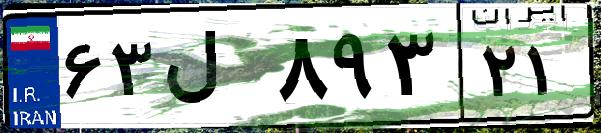1: (525, 38, 570, 115)
2: (475, 38, 525, 113)
3: (385, 28, 445, 110), (110, 28, 158, 98)
6: (57, 26, 110, 100)
8: (270, 28, 330, 110)
9: (330, 28, 385, 110)
ل: (158, 20, 270, 120)
